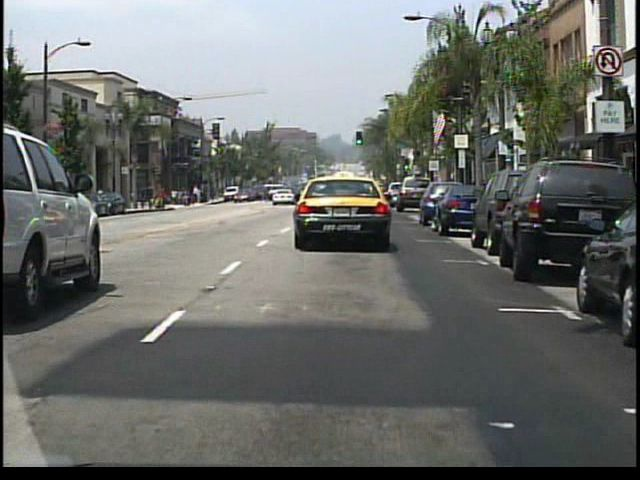person: (194, 189, 202, 209)
